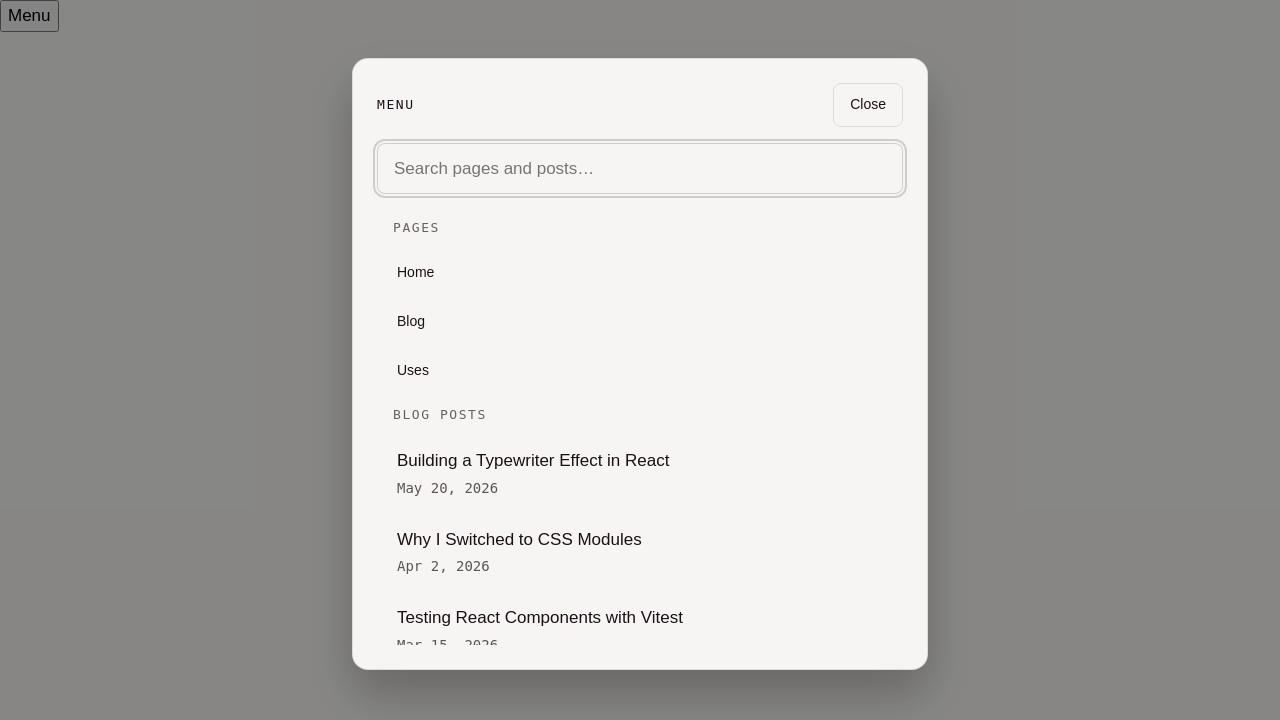
Test case: CommandPalette › filters pages and posts as the user types
Type "uses" into the dropdown at {"x": 640, "y": 168}, box [377,143,903,194]
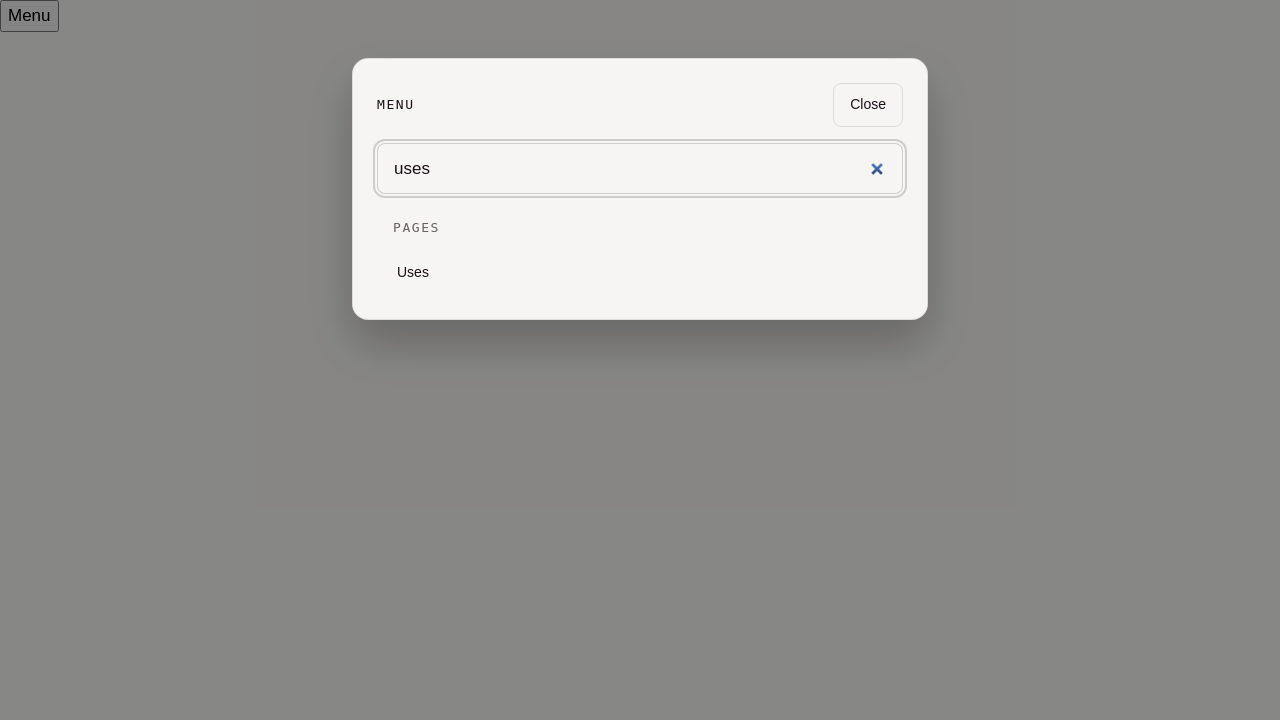
Expected: the option "Uses" is shown, [397,264,429,280]
Expected: the option "Home" is gone
Expected: the list item "Blog posts" is gone
